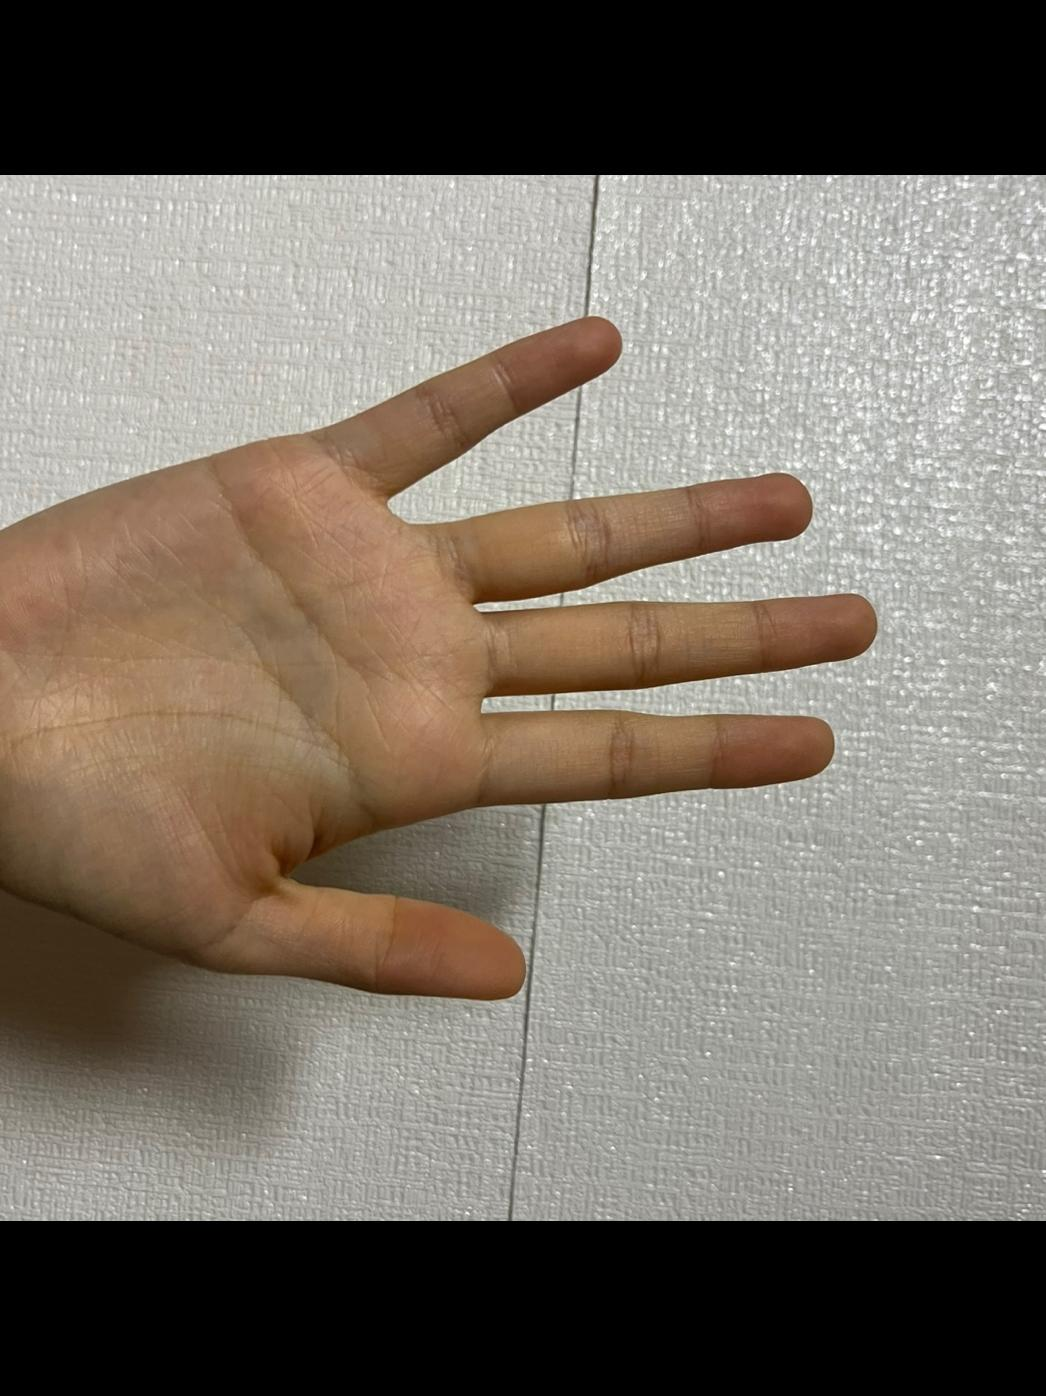open: (0, 312, 880, 1004)
